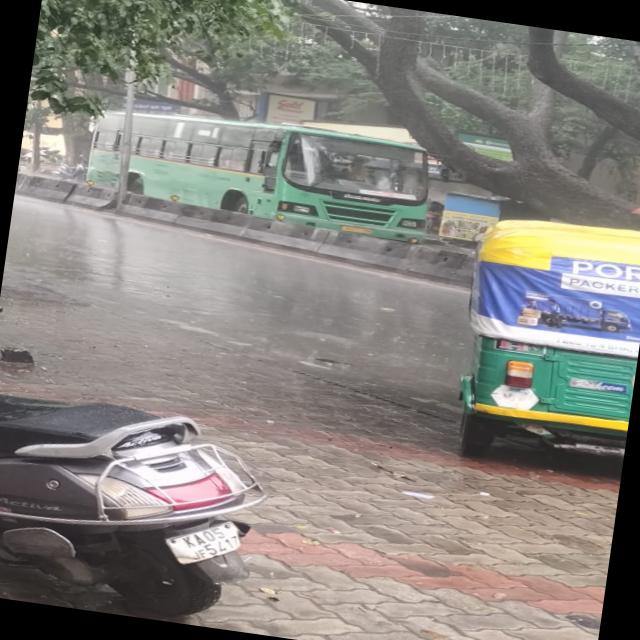bus: (72, 88, 458, 245)
display: (304, 134, 418, 164)
